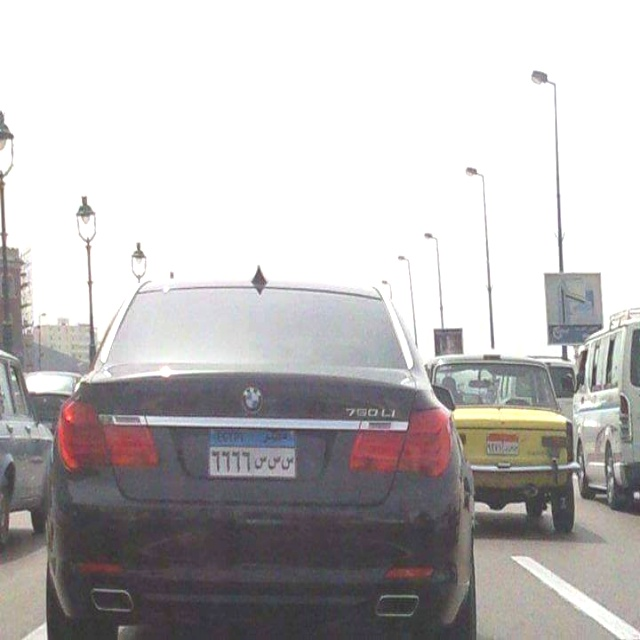License Plate: (207, 428, 298, 480)
